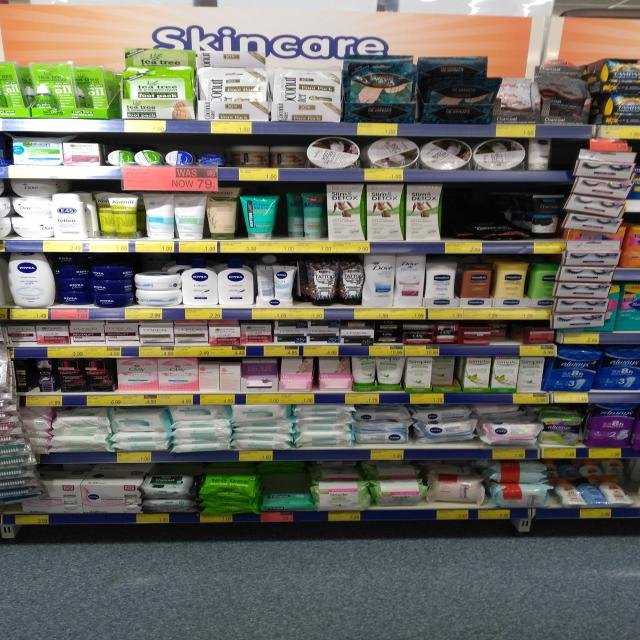unorganised: (364, 136, 472, 171), (428, 64, 501, 112), (283, 188, 325, 240), (233, 142, 307, 168), (84, 190, 111, 239), (76, 65, 106, 108), (240, 357, 278, 388), (526, 135, 557, 172), (252, 261, 275, 303), (432, 357, 458, 391)
